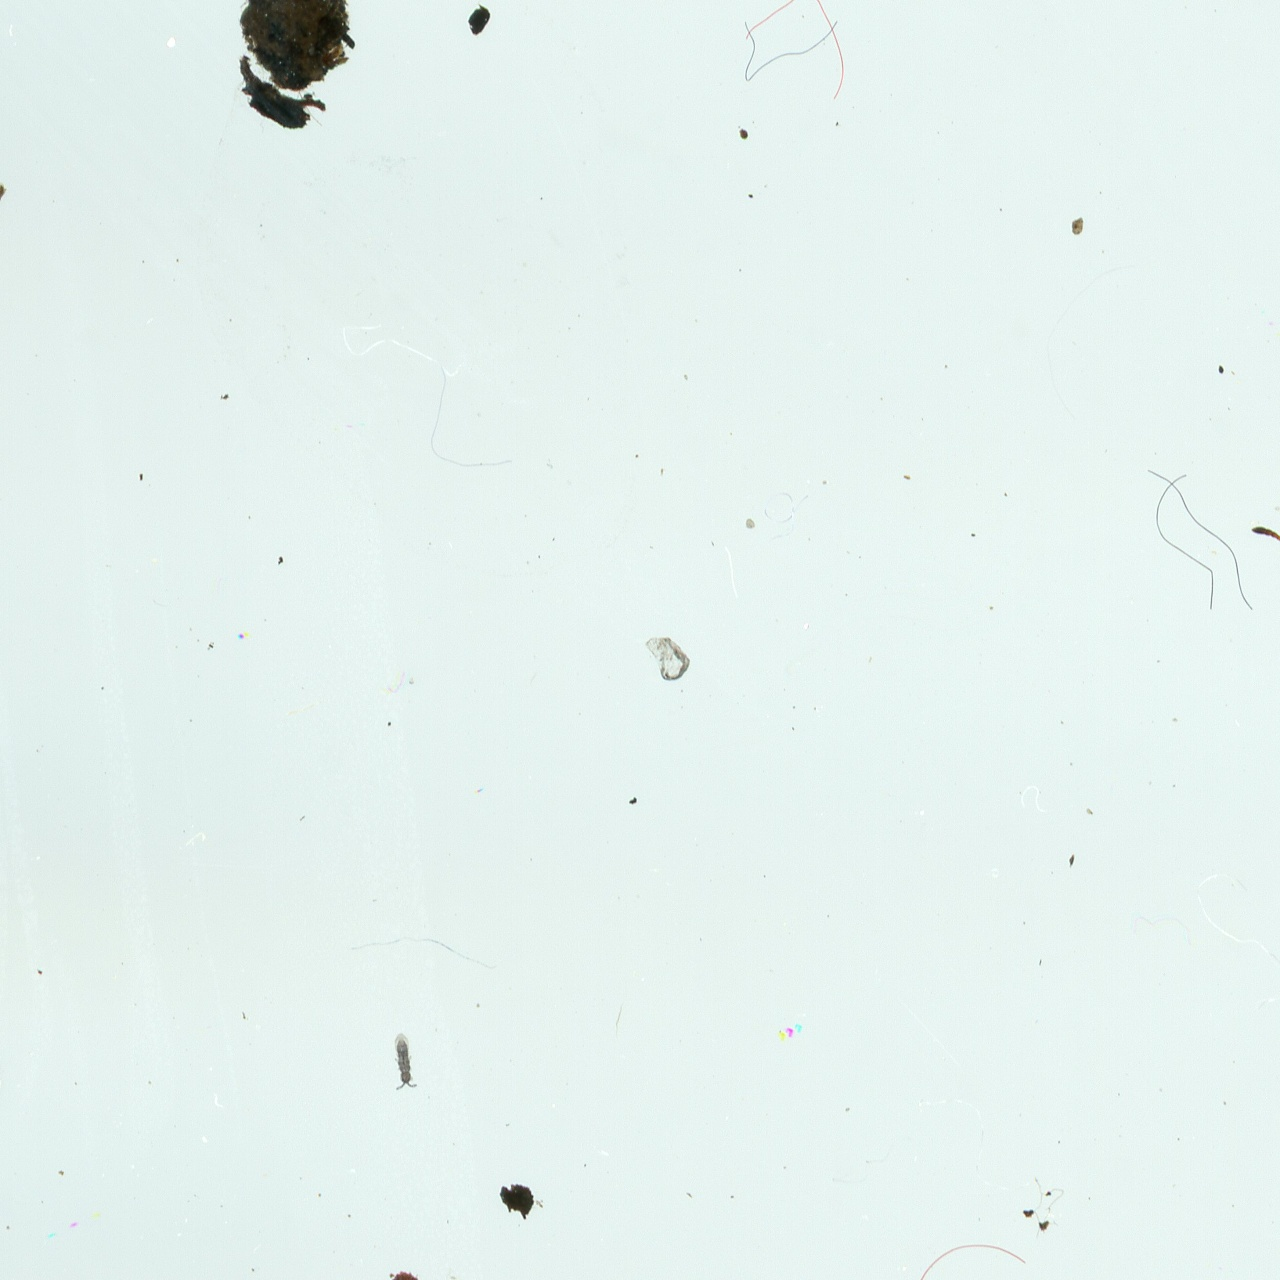arthropod: (1242, 520, 1280, 709), (388, 1028, 422, 1091)
